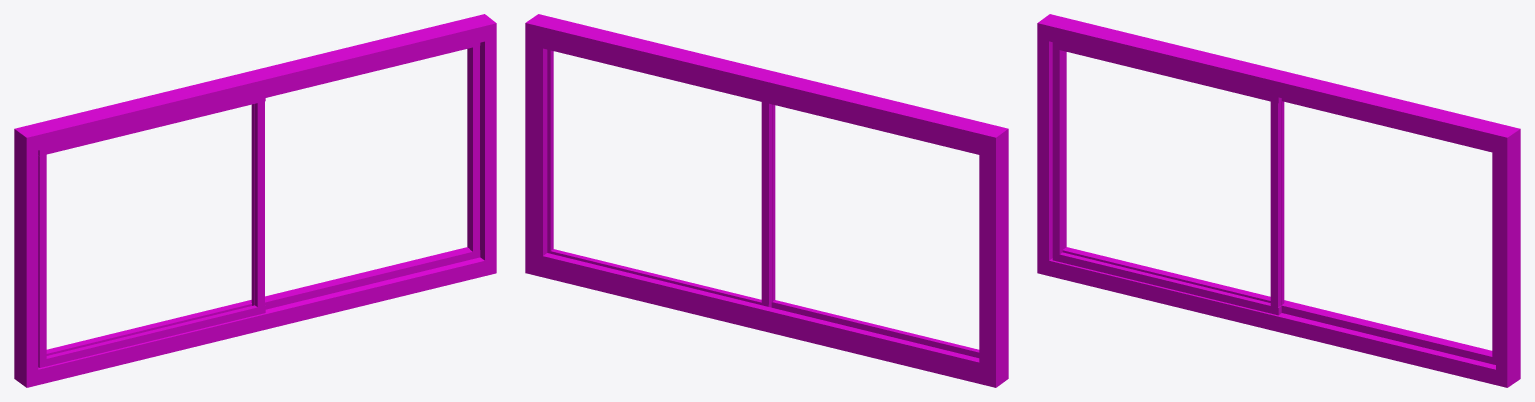
File: Window_B_01.fbx
3 renders of one model, left to right at view 1: azimuth 30°, elevation 25°; view 2: azimuth 150°, elevation 25°; view 3: azimuth 330°, elevation 25°, orthographic.
Visible parts, largest first — view 1: Window_B_01; view 2: Window_B_01; view 3: Window_B_01.
Boxes of the visible parts, box(x1,y1,x2,y2) form: Window_B_01: box(14, 14, 496, 387); Window_B_01: box(525, 14, 1008, 387); Window_B_01: box(1037, 14, 1520, 387).
Bounding box in the file's own units: 239 × 121 × 10.93.
